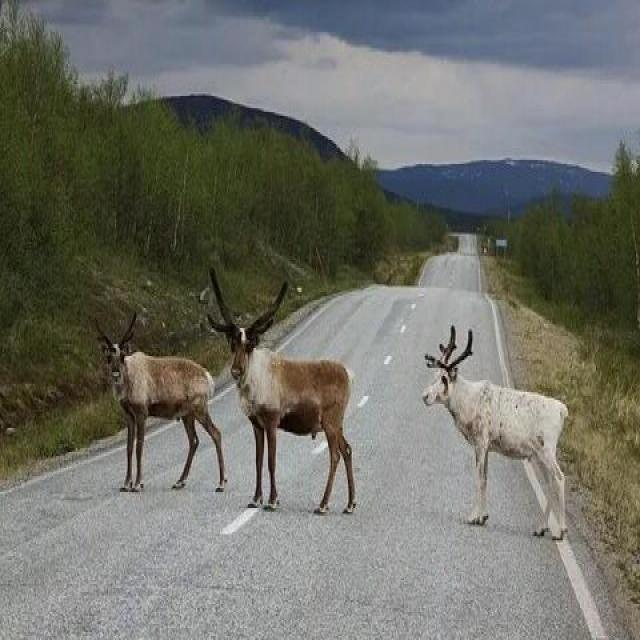deer: (195, 282, 388, 545), (418, 339, 600, 598), (109, 330, 254, 502)
